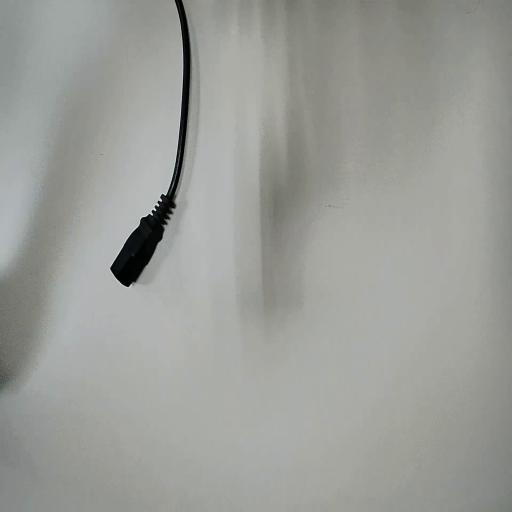wire: (111, 0, 189, 285)
